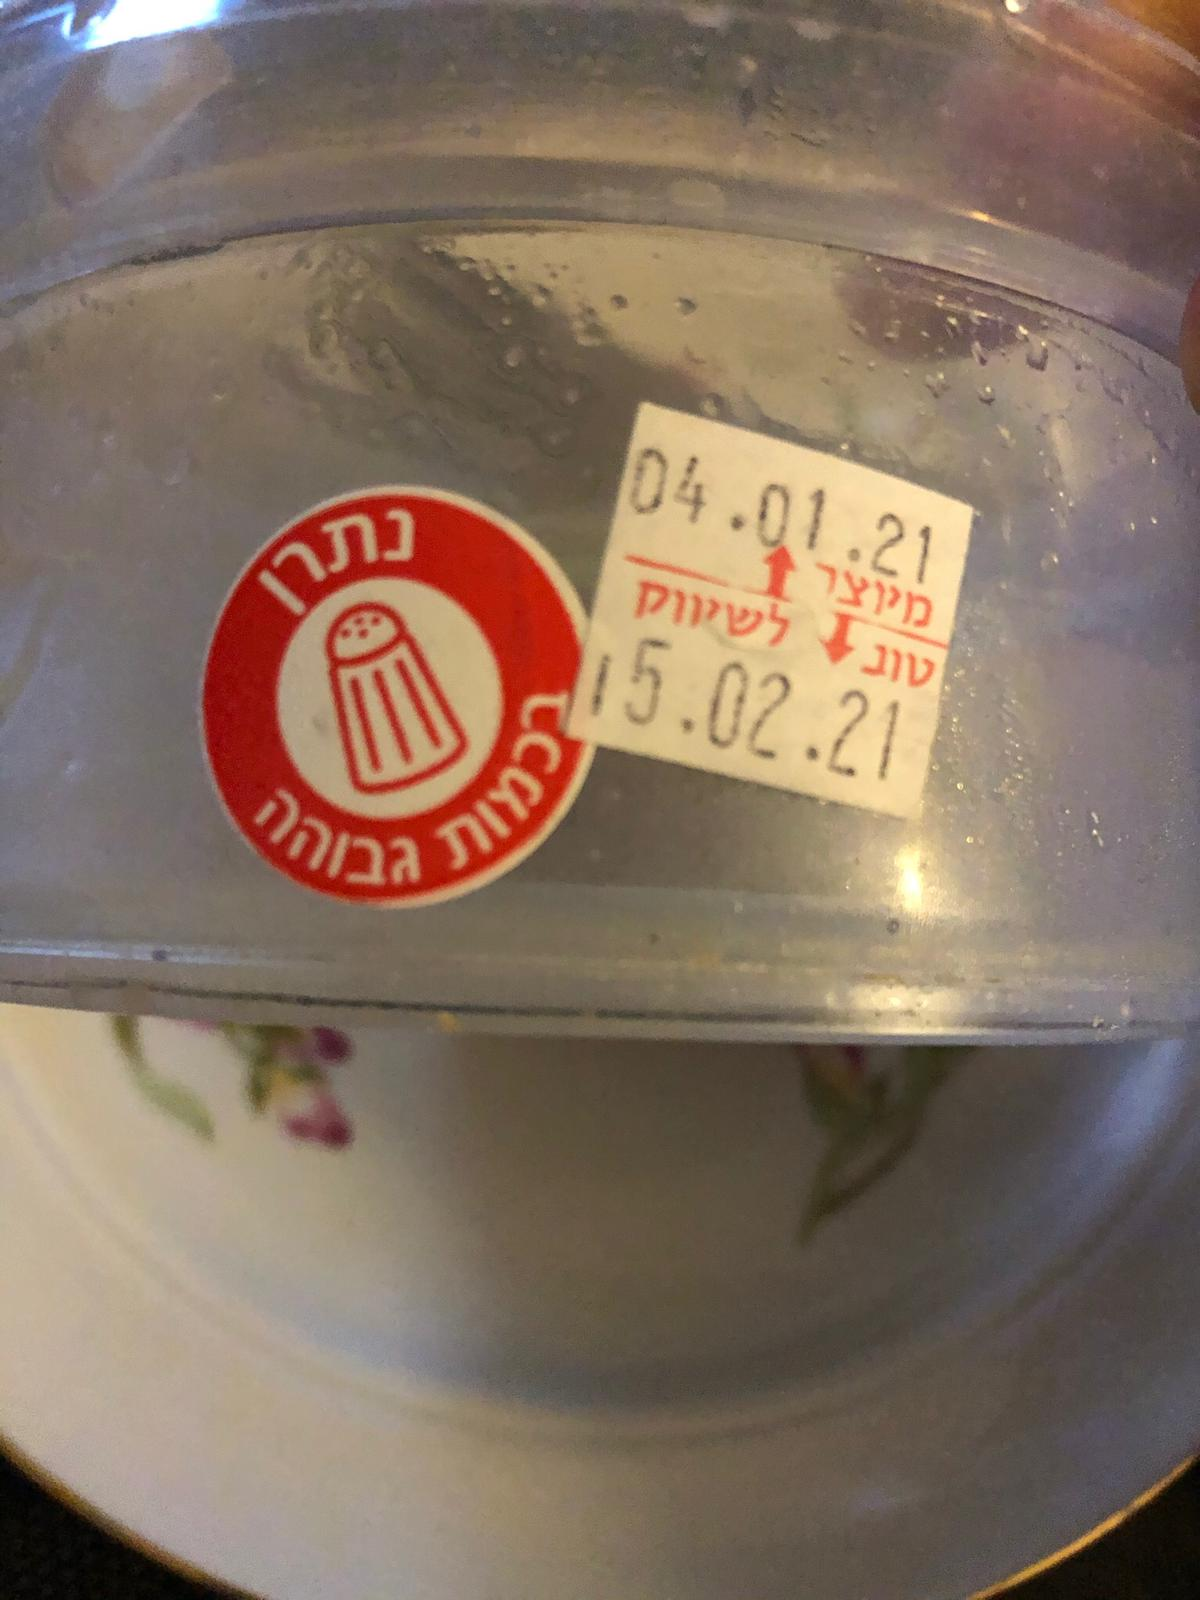salt: (199, 485, 606, 908)
